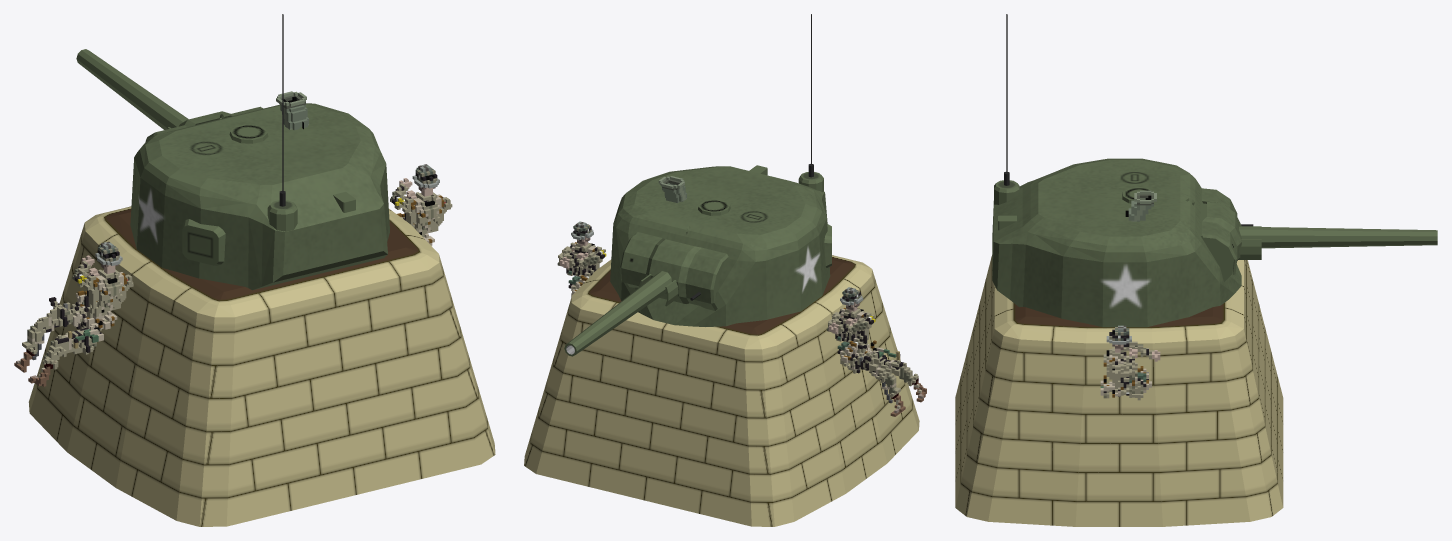
Rendered from fortified_turret_sherman.glb.
3 views of the same model, side by side, from view 1: azimuth 30°, elevation 25°; view 2: azimuth 150°, elevation 25°; view 3: azimuth 270°, elevation 25° (orthographic). The views are drawn at different scales.
Parts seen in each view (by area): view 1: 00_chassis_chi_ha_sandbags.mesh, 03_turret_m4_75_turret.mesh, crew_soldier_SLOT_00_GUNNER, crew_soldier_SLOT_01_GUNNER, weapon_turret_0_m4_75_cannon.mesh, weapon_turret_1_weapon_fortified_turret_grenade_launcher.xml; view 2: 00_chassis_chi_ha_sandbags.mesh, 03_turret_m4_75_turret.mesh, crew_soldier_SLOT_00_GUNNER, weapon_turret_0_m4_75_cannon.mesh, crew_soldier_SLOT_01_GUNNER, weapon_turret_1_weapon_fortified_turret_grenade_launcher.xml; view 3: 00_chassis_chi_ha_sandbags.mesh, 03_turret_m4_75_turret.mesh, weapon_turret_0_m4_75_cannon.mesh, crew_soldier_SLOT_01_GUNNER, weapon_turret_1_weapon_fortified_turret_grenade_launcher.xml.
Part boxes in pixels (<box>): 00_chassis_chi_ha_sandbags.mesh: <box>28,206,495,526</box>; 03_turret_m4_75_turret.mesh: <box>130,14,389,290</box>; crew_soldier_SLOT_00_GUNNER: <box>14,241,133,386</box>; crew_soldier_SLOT_01_GUNNER: <box>390,164,452,245</box>; weapon_turret_0_m4_75_cannon.mesh: <box>76,49,188,129</box>; weapon_turret_1_weapon_fortified_turret_grenade_launcher.xml: <box>276,91,308,130</box>; 00_chassis_chi_ha_sandbags.mesh: <box>524,255,919,526</box>; 03_turret_m4_75_turret.mesh: <box>610,14,831,326</box>; crew_soldier_SLOT_00_GUNNER: <box>826,287,926,416</box>; weapon_turret_0_m4_75_cannon.mesh: <box>564,271,671,356</box>; crew_soldier_SLOT_01_GUNNER: <box>557,221,606,296</box>; weapon_turret_1_weapon_fortified_turret_grenade_launcher.xml: <box>658,176,686,203</box>; 00_chassis_chi_ha_sandbags.mesh: <box>955,255,1283,526</box>; 03_turret_m4_75_turret.mesh: <box>992,14,1261,327</box>; weapon_turret_0_m4_75_cannon.mesh: <box>1239,226,1437,248</box>; crew_soldier_SLOT_01_GUNNER: <box>1100,325,1160,400</box>; weapon_turret_1_weapon_fortified_turret_grenade_launcher.xml: <box>1125,190,1156,221</box>.
Size of the model in its own units: 4.79 by 5.1 by 5.31.
Materials: 41 (2 with a texture image).
